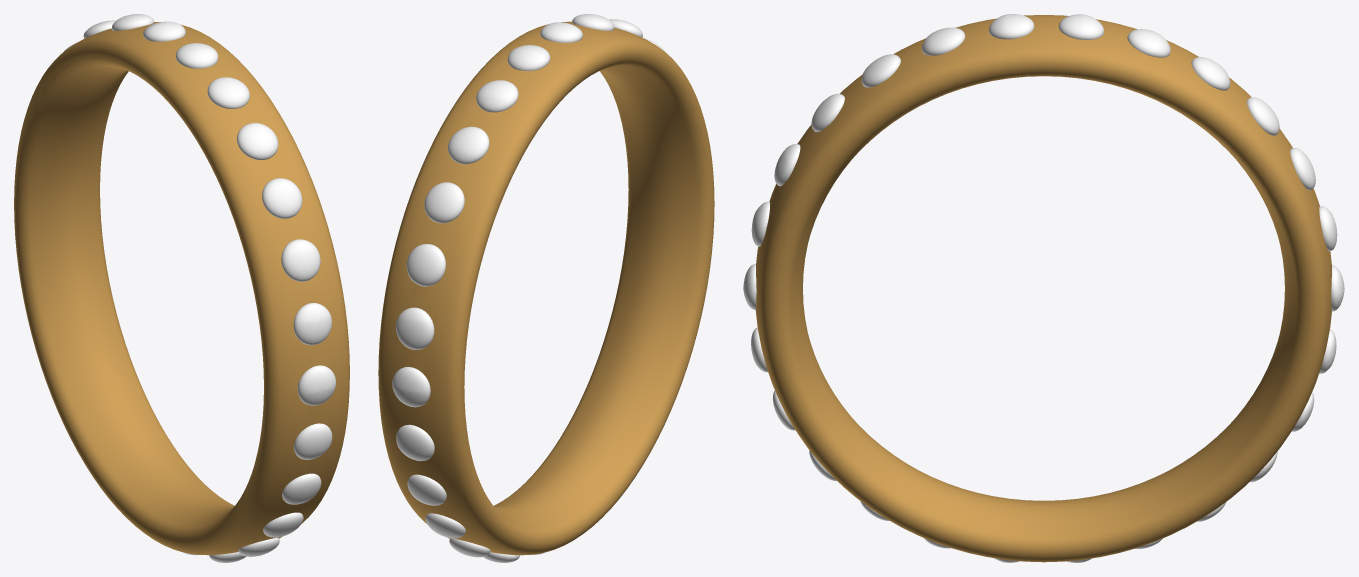
File: Ring1.glb
The picture shows the model from 3 angles, left to right: view 1: azimuth 30°, elevation 25°; view 2: azimuth 150°, elevation 25°; view 3: azimuth 270°, elevation 25°; orthographic projection. The views are drawn at different scales.
Visible parts, largest first — view 1: Ring 2.002, Sphere; view 2: Ring 2.002, Sphere; view 3: Ring 2.002, Sphere.
Boxes of the visible parts, bbox=[...] form: Ring 2.002: bbox=[14, 22, 349, 555]; Sphere: bbox=[64, 14, 336, 562]; Ring 2.002: bbox=[378, 21, 714, 555]; Sphere: bbox=[392, 14, 664, 562]; Ring 2.002: bbox=[755, 15, 1331, 562]; Sphere: bbox=[743, 14, 1344, 562].
Size of the model in its own units: 0.00414 by 0.0243 by 0.0245.
